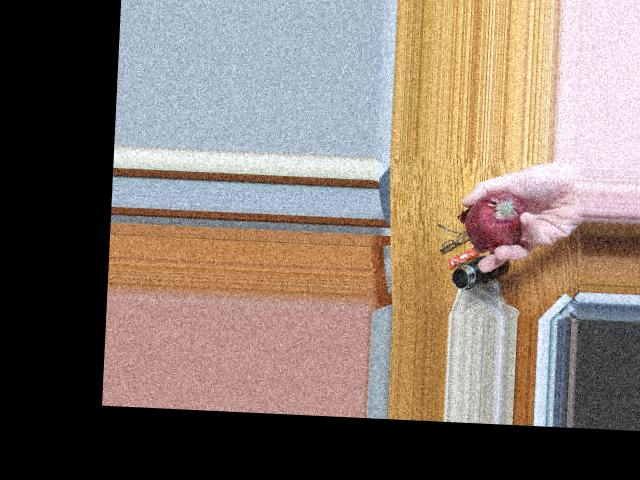onion: (464, 188, 528, 250)
